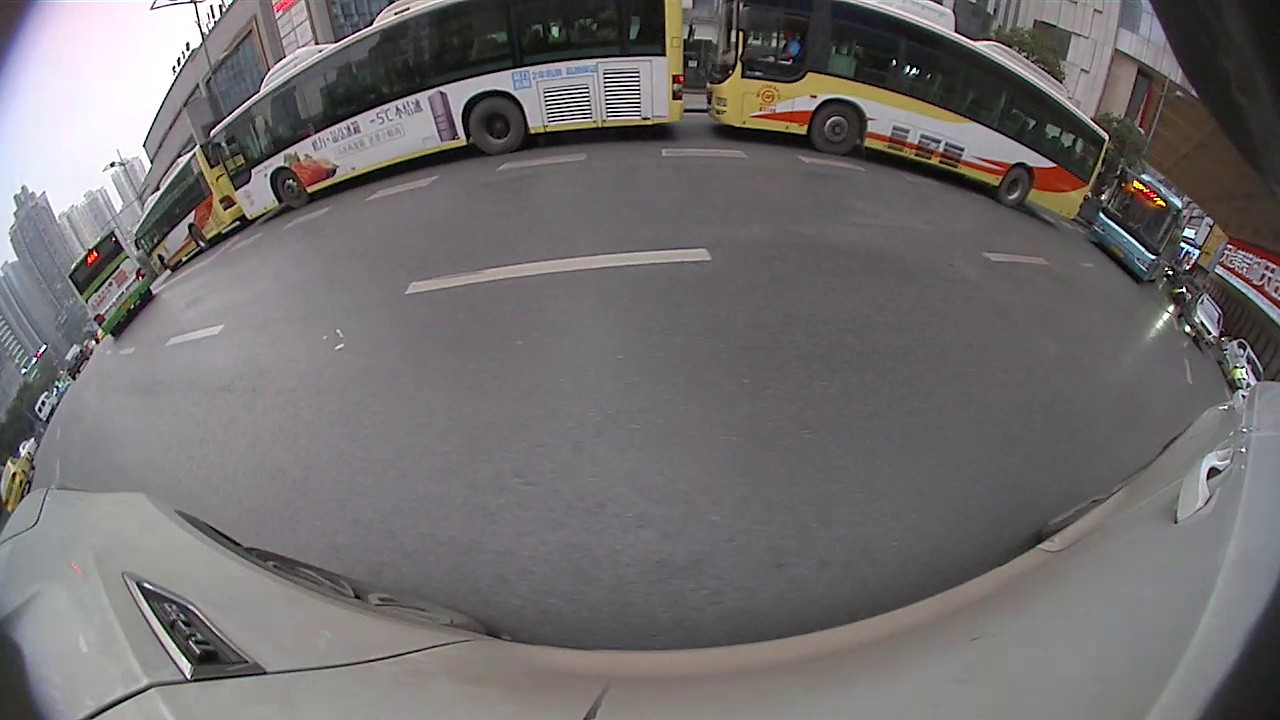bus: (206, 1, 692, 227), (707, 1, 1109, 229), (137, 142, 243, 276), (1091, 176, 1191, 288), (66, 227, 153, 339)
car: (1222, 338, 1270, 393), (1181, 293, 1228, 347)
front: (812, 97, 866, 160), (271, 170, 311, 210)
rear: (464, 100, 528, 155), (996, 164, 1033, 210)
